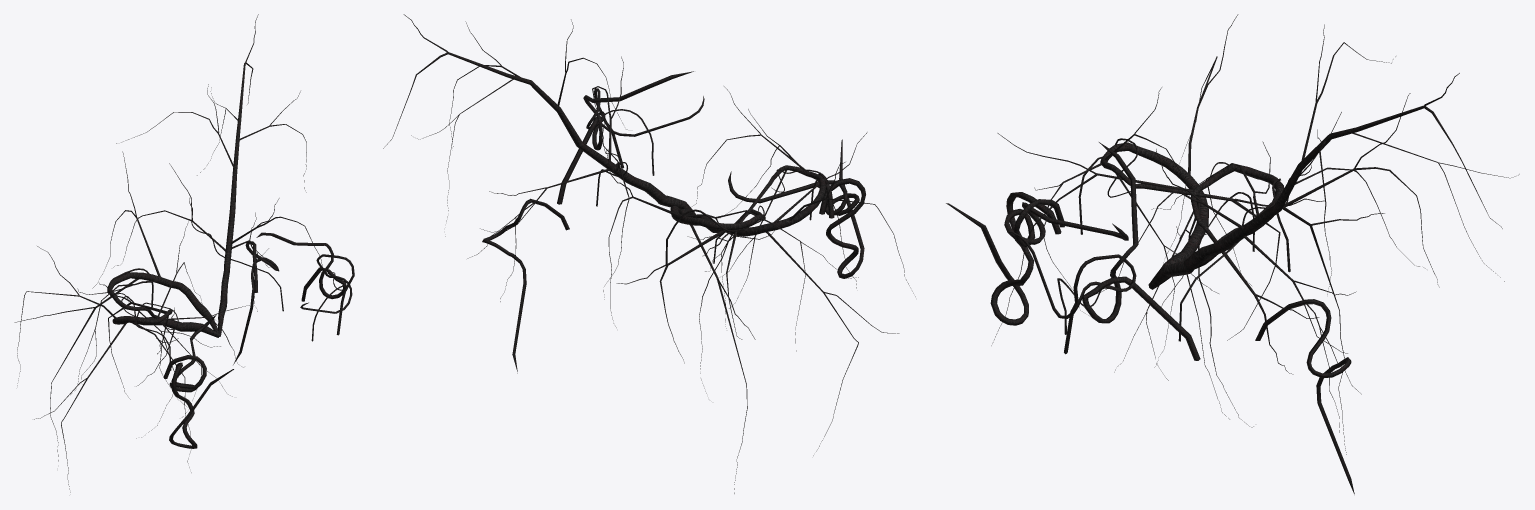
Rendered from Bush 3.fbx.
The picture shows the model from 3 angles, left to right: view 1: azimuth 30°, elevation 25°; view 2: azimuth 150°, elevation 25°; view 3: azimuth 270°, elevation 25°; orthographic projection. The views are drawn at different scales.
Parts seen in each view (by area): view 1: LOD0; view 2: LOD0; view 3: LOD0.
Boxes of the visible parts, x1=… form: LOD0: x1=14, y1=14, x2=354, y2=492; LOD0: x1=383, y1=14, x2=915, y2=493; LOD0: x1=946, y1=14, x2=1519, y2=494.
Bounding box in the file's own units: 493 × 514 × 480.
1 material, 1 textured.
